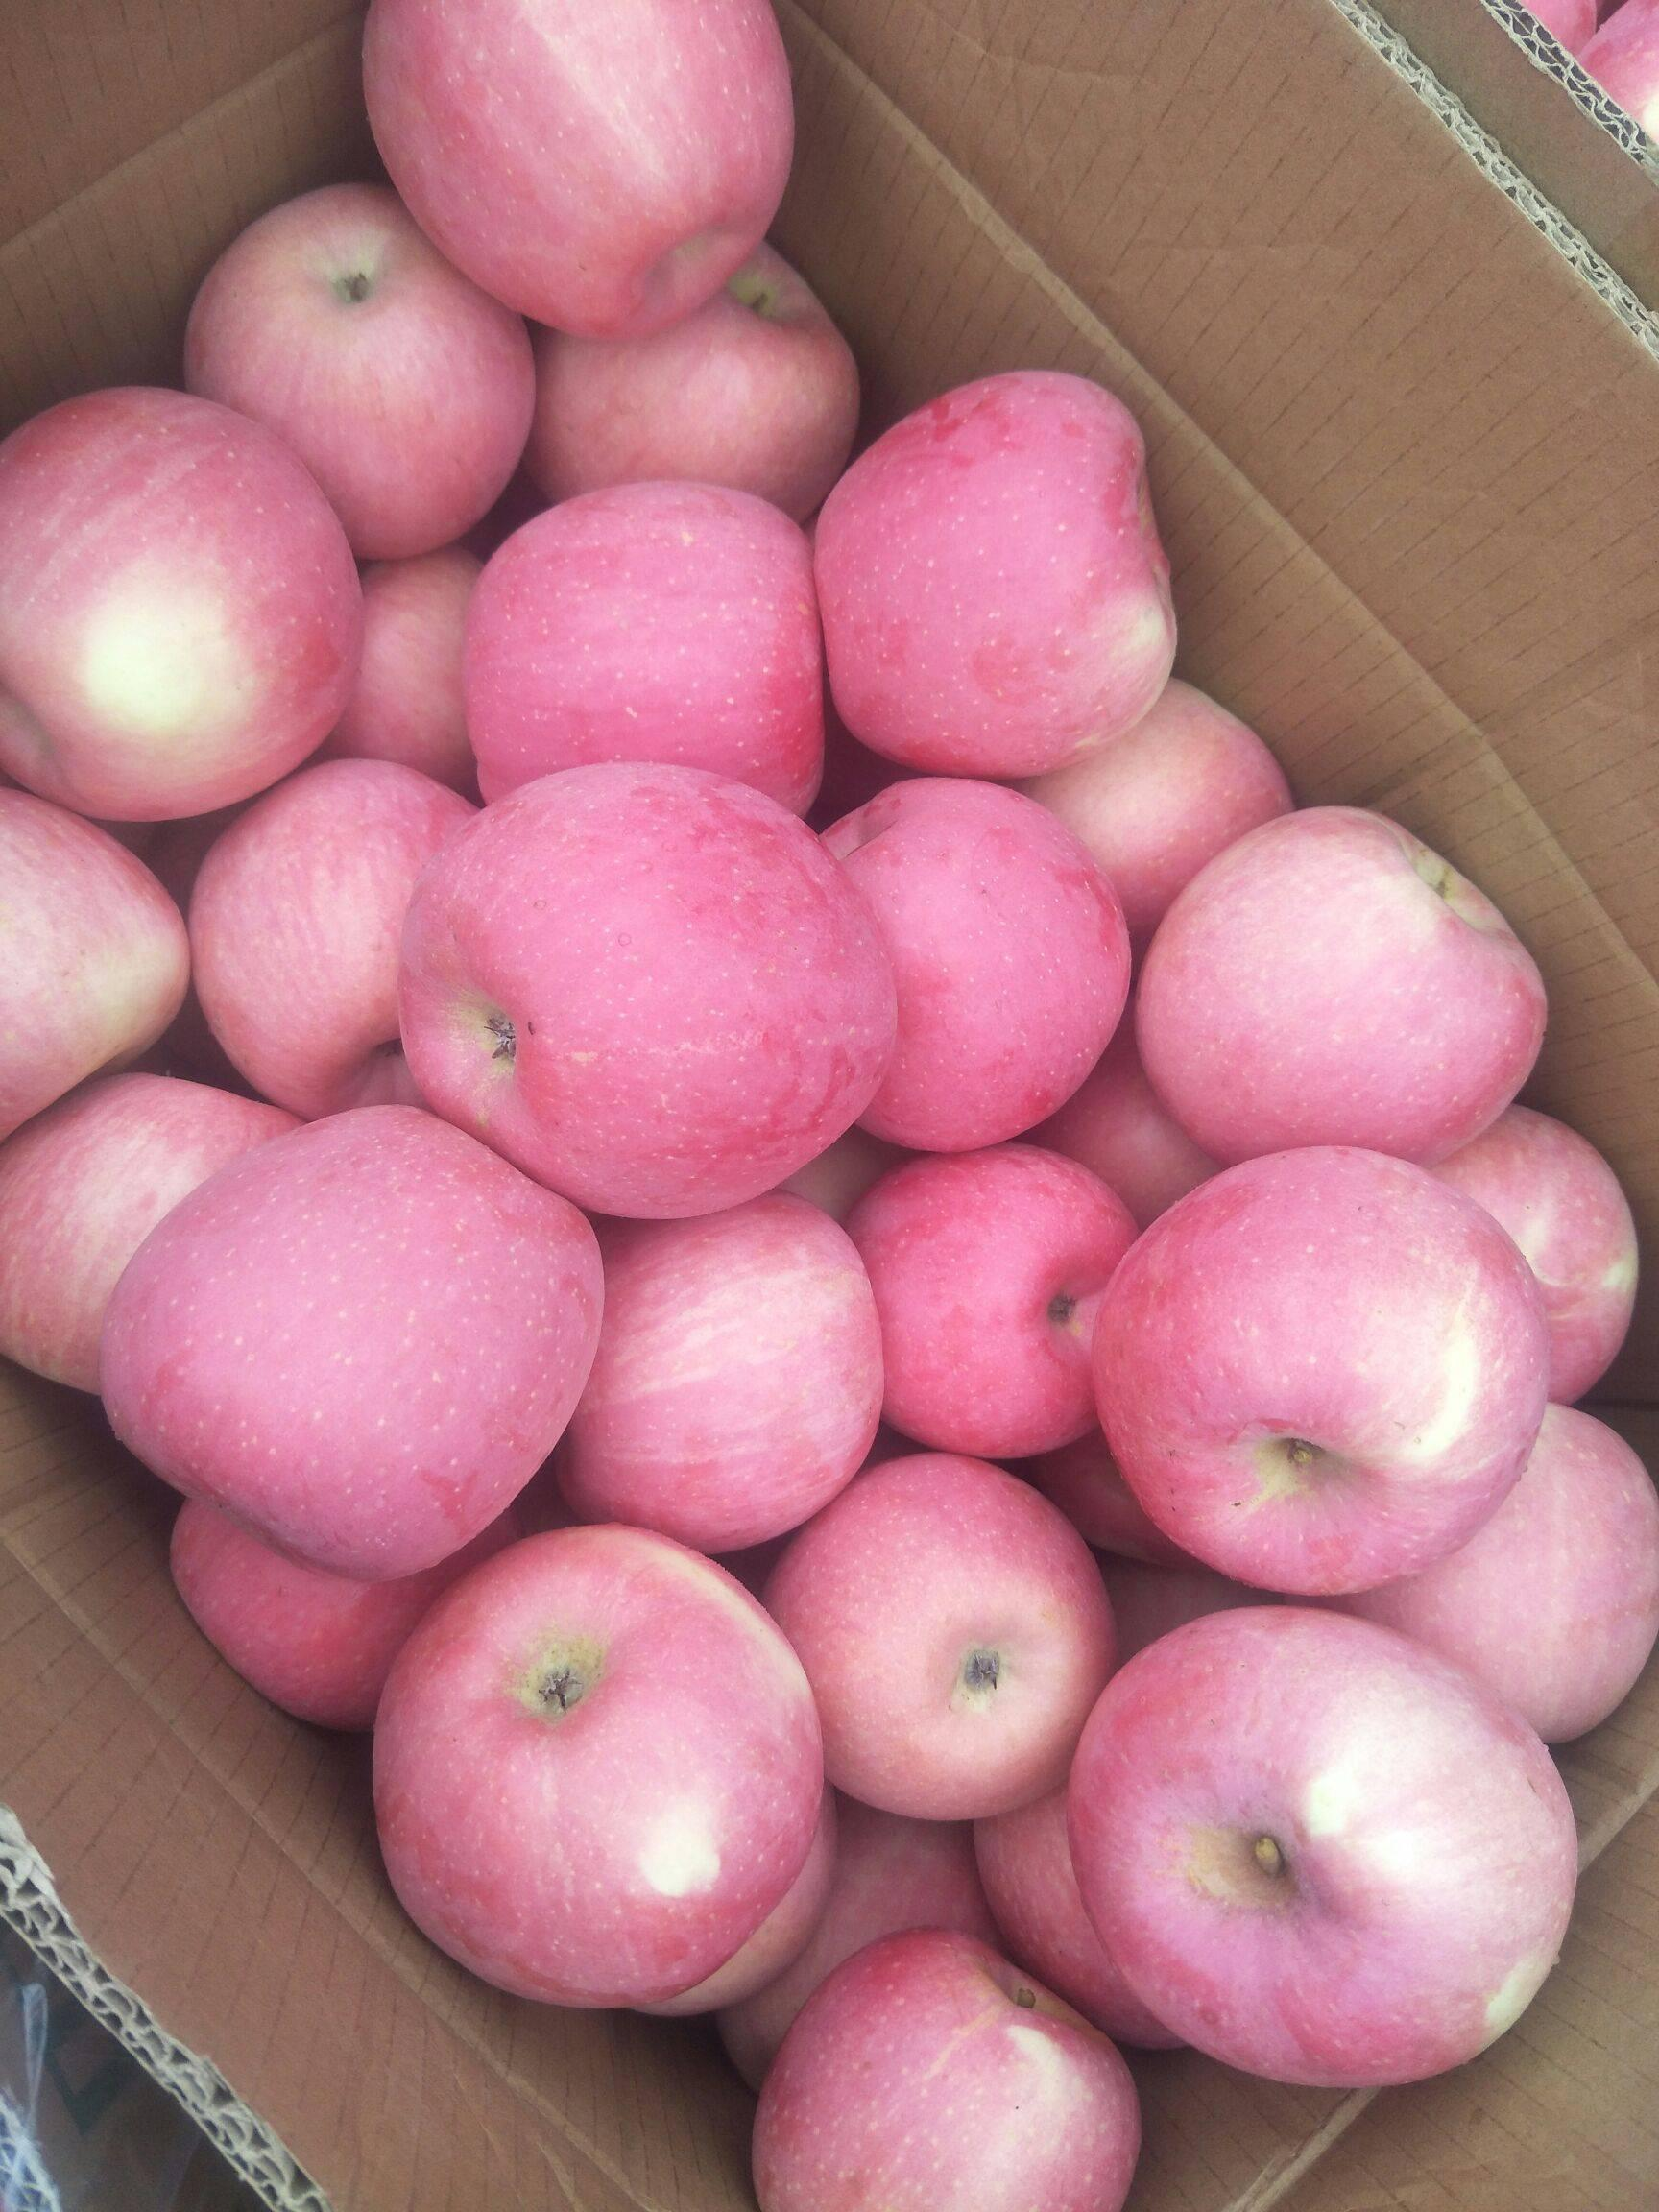apple: (1058, 1599, 1586, 2087), (94, 1096, 605, 1592), (401, 747, 892, 1231), (364, 1524, 826, 2026), (1073, 1139, 1549, 1587), (2, 388, 373, 831), (336, 2, 807, 347), (1129, 806, 1547, 1169), (816, 369, 1176, 775), (174, 171, 537, 549), (765, 1449, 1115, 1827), (464, 467, 828, 820), (816, 773, 1129, 1153), (568, 1197, 889, 1550), (746, 1926, 1140, 2207), (183, 745, 472, 1103), (849, 1144, 1138, 1463)
